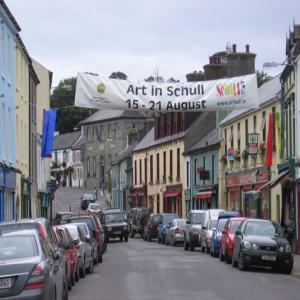Vehicle-registration-plate: (1, 279, 12, 290), (264, 257, 277, 261)
